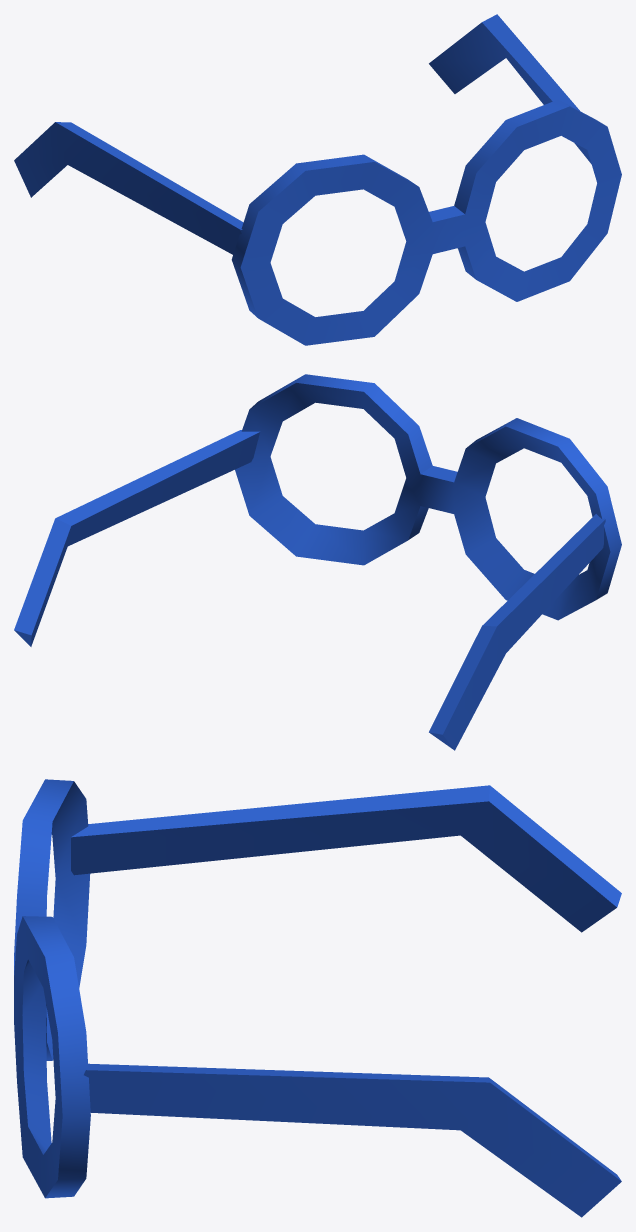
The model's file is Male_Glasses_02.fbx.
The picture shows the model from 3 angles, top to bottom: view 1: azimuth 30°, elevation 25°; view 2: azimuth 150°, elevation 25°; view 3: azimuth 270°, elevation 25°; orthographic projection. The views are drawn at different scales.
Parts seen in each view (by area): view 1: Male_Glasses_02; view 2: Male_Glasses_02; view 3: Male_Glasses_02.
Boxes of the visible parts, x1,y1,x2,y2 form: Male_Glasses_02: (14, 14, 621, 345); Male_Glasses_02: (14, 374, 621, 750); Male_Glasses_02: (14, 779, 621, 1217).
Bounding box in the file's own units: 53.16 × 20.11 × 45.95.
